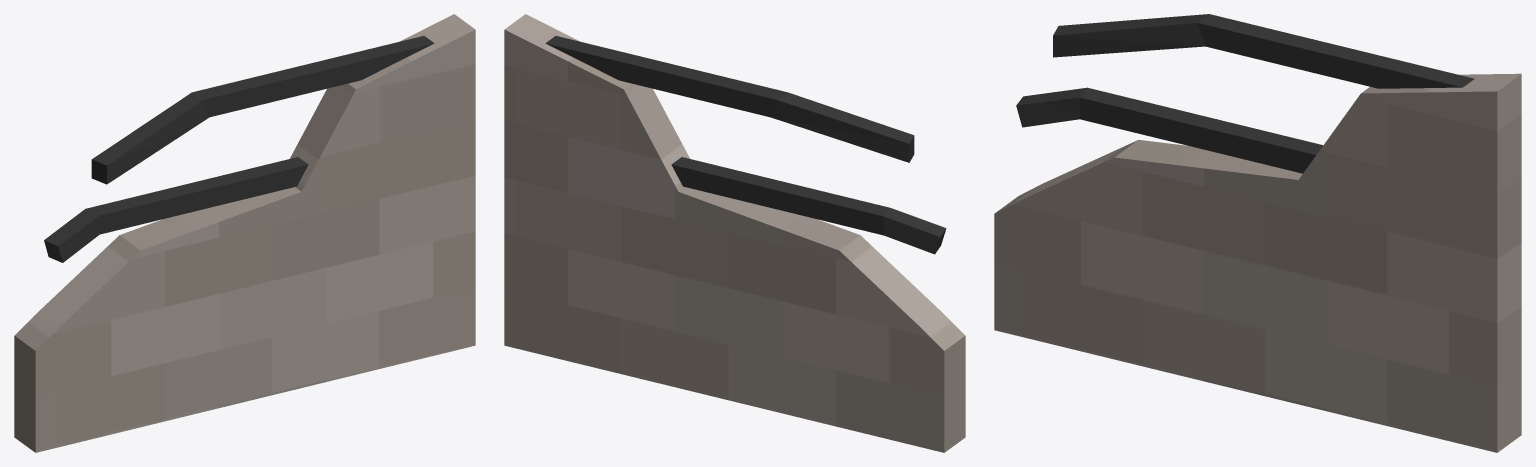
Rendered from LightStoneWallSmallBrickwExposedReinforcement1.fbx.
3 renders of one model, left to right at view 1: azimuth 30°, elevation 25°; view 2: azimuth 150°, elevation 25°; view 3: azimuth 330°, elevation 25°, orthographic. The views are drawn at different scales.
Parts seen in each view (by area): view 1: LightStoneWallSmallBrickwExposedReinforcement1, Reinforcement; view 2: LightStoneWallSmallBrickwExposedReinforcement1, Reinforcement; view 3: LightStoneWallSmallBrickwExposedReinforcement1, Reinforcement.
Boxes of the visible parts, left/top/right/bottom form: LightStoneWallSmallBrickwExposedReinforcement1: left=14, top=14, right=475, bottom=452; Reinforcement: left=44, top=36, right=434, bottom=262; LightStoneWallSmallBrickwExposedReinforcement1: left=504, top=14, right=965, bottom=452; Reinforcement: left=545, top=36, right=946, bottom=254; LightStoneWallSmallBrickwExposedReinforcement1: left=994, top=73, right=1521, bottom=452; Reinforcement: left=1016, top=14, right=1474, bottom=173.
Bounding box in the file's own units: 600 × 412 × 73.83.
Materials: 2 (1 with a texture image).
